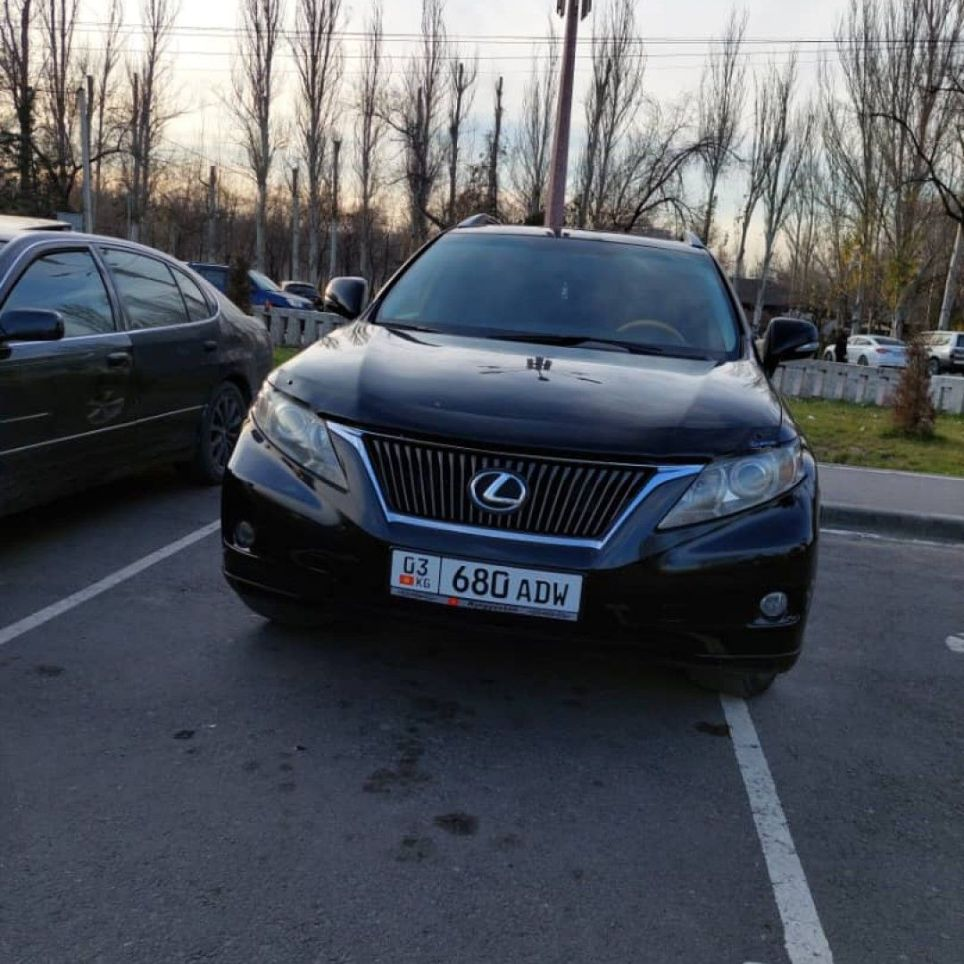license plate: (388, 546, 587, 623)
truck: (194, 208, 829, 716)
